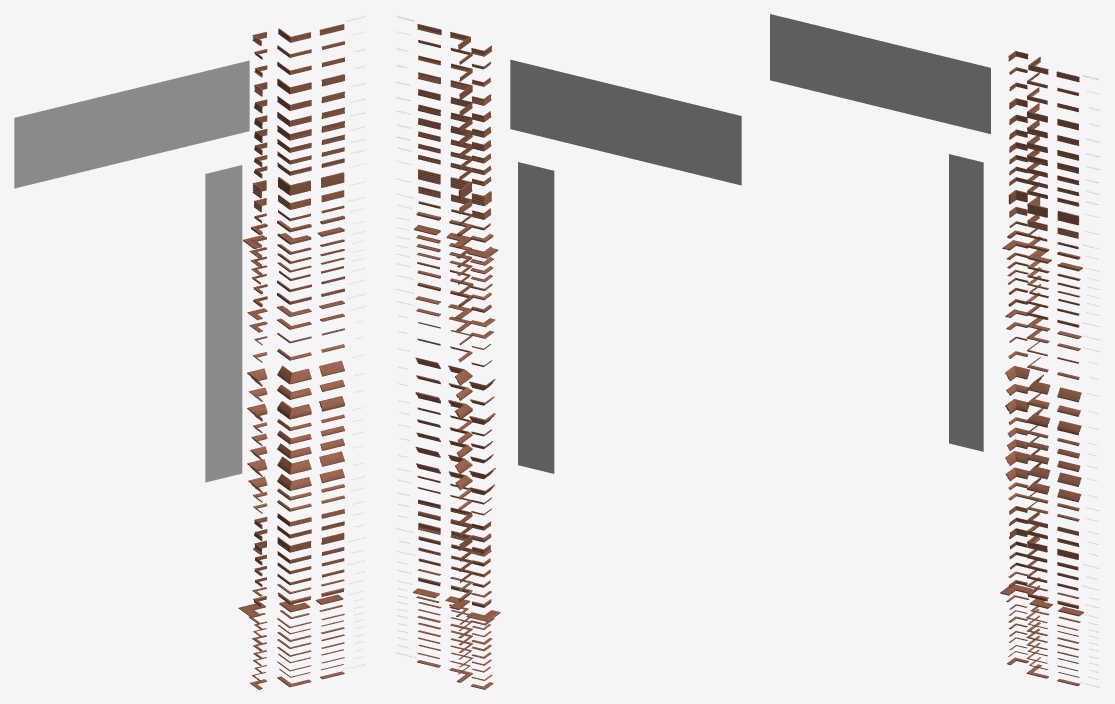
File: ultimate_moulding_and_skirtings.glb
The picture shows the model from 3 angles, left to right: view 1: azimuth 30°, elevation 25°; view 2: azimuth 150°, elevation 25°; view 3: azimuth 330°, elevation 25°; orthographic projection. The views are drawn at different scales.
Parts seen in each view (by area): view 1: Plane.054, Plane.055; view 2: Plane.054, Plane.055; view 3: Plane.054, Plane.055.
Part boxes in pixels (x1,y1,x2,y2): Plane.054: (14, 60, 249, 188); Plane.055: (205, 165, 242, 482); Plane.054: (510, 59, 741, 185); Plane.055: (518, 162, 554, 473); Plane.054: (770, 14, 990, 133); Plane.055: (949, 154, 983, 451).
Bounding box in the file's own units: 3086 × 5466 × 275.
Materials: 3 (3 with a texture image).
